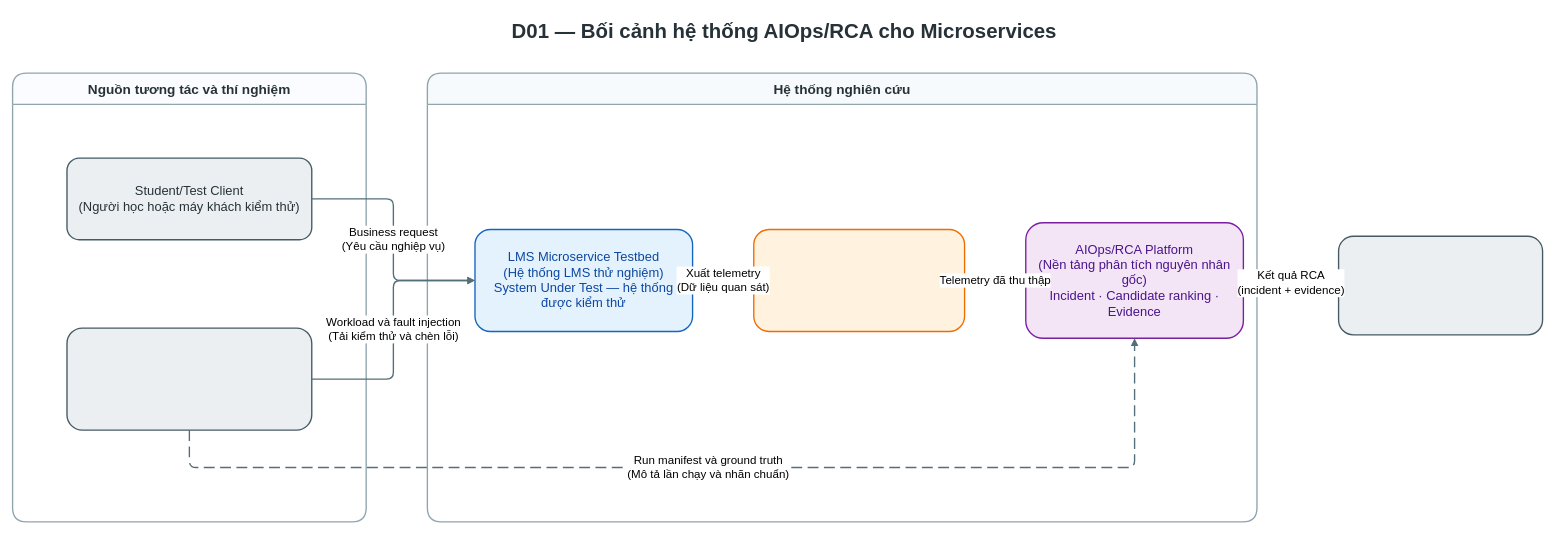
The diagram is 1554 pixels wide and 534 high, and some of its shapes have lost their labels. The shapes that lost their labels are listed below. From the top down, each one's centre as x and y in pixels, then its label:
At pixel 859 280: "Observability Platform (Nền tảng quan sát) Metrics · Traces · Logs".
At pixel 1440 285: "Developer/SRE (Kỹ sư phát triển và vận hành) Nhóm nghiên cứu".
At pixel 189 378: "Experiment Runner (Bộ điều phối thí nghiệm) Sinh workload, fault và ground truth".
